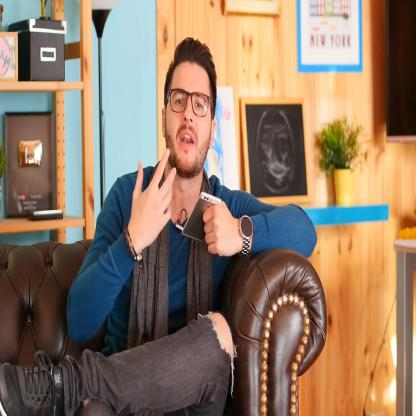smartphone: (181, 190, 222, 243)
